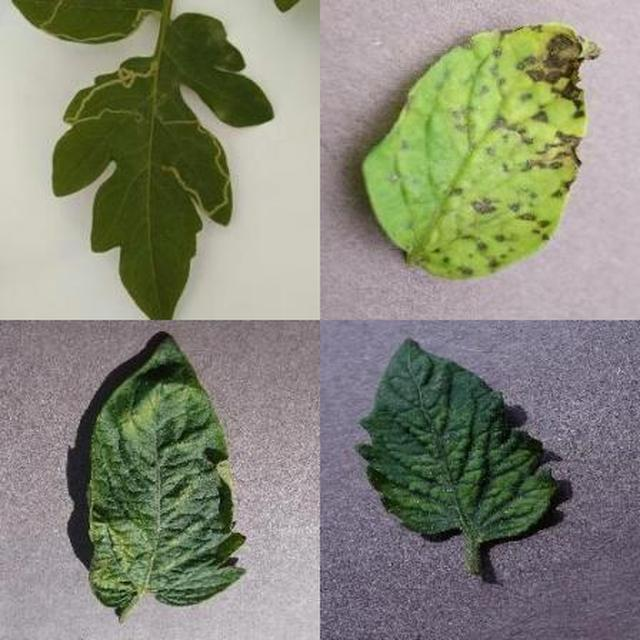Leaf Miner: (233, 218, 640, 640)
